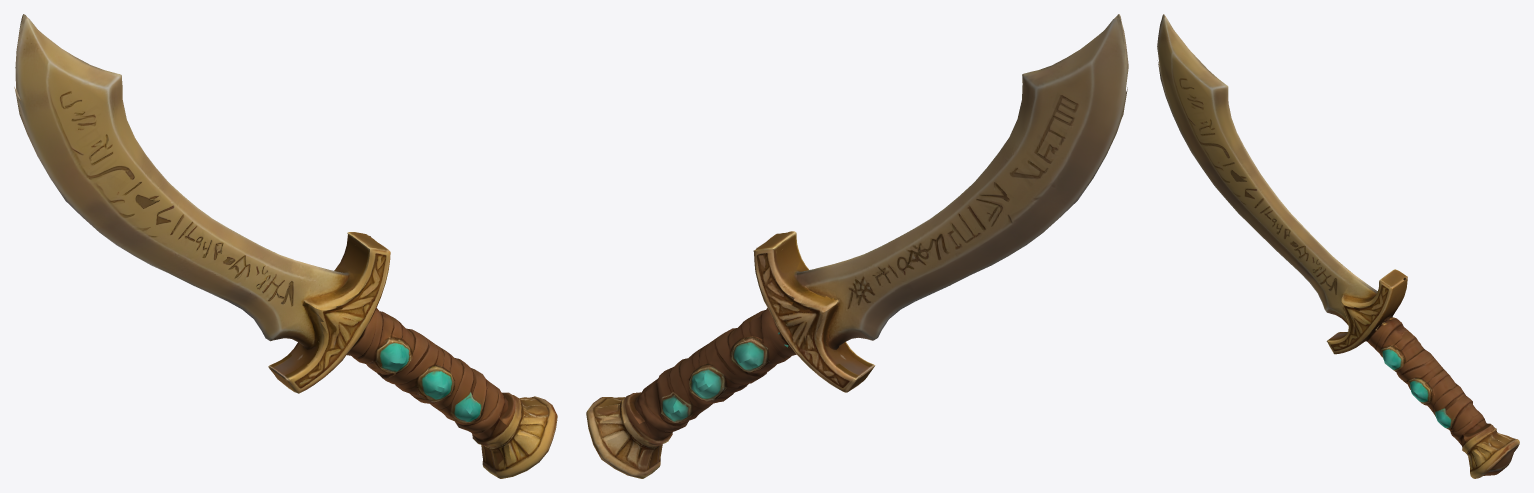
File: AncientBlade.fbx
3 renders of one model, left to right at view 1: azimuth 30°, elevation 25°; view 2: azimuth 150°, elevation 25°; view 3: azimuth 330°, elevation 25°, orthographic. The views are drawn at different scales.
Parts seen in each view (by area): view 1: Mesh0; view 2: Mesh0; view 3: Mesh0.
Part boxes in pixels (x1,y1,x2,y2): Mesh0: [14, 14, 557, 478]; Mesh0: [586, 14, 1128, 478]; Mesh0: [1157, 14, 1519, 478].
Bounding box in the file's own units: 584 × 600 × 77.11.
1 material, 1 textured.
